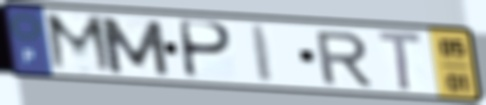I: (248, 22, 276, 86)
M: (41, 10, 119, 77), (97, 15, 173, 78)
P: (179, 18, 236, 82)
R: (312, 30, 375, 87)
T: (375, 27, 426, 94)
